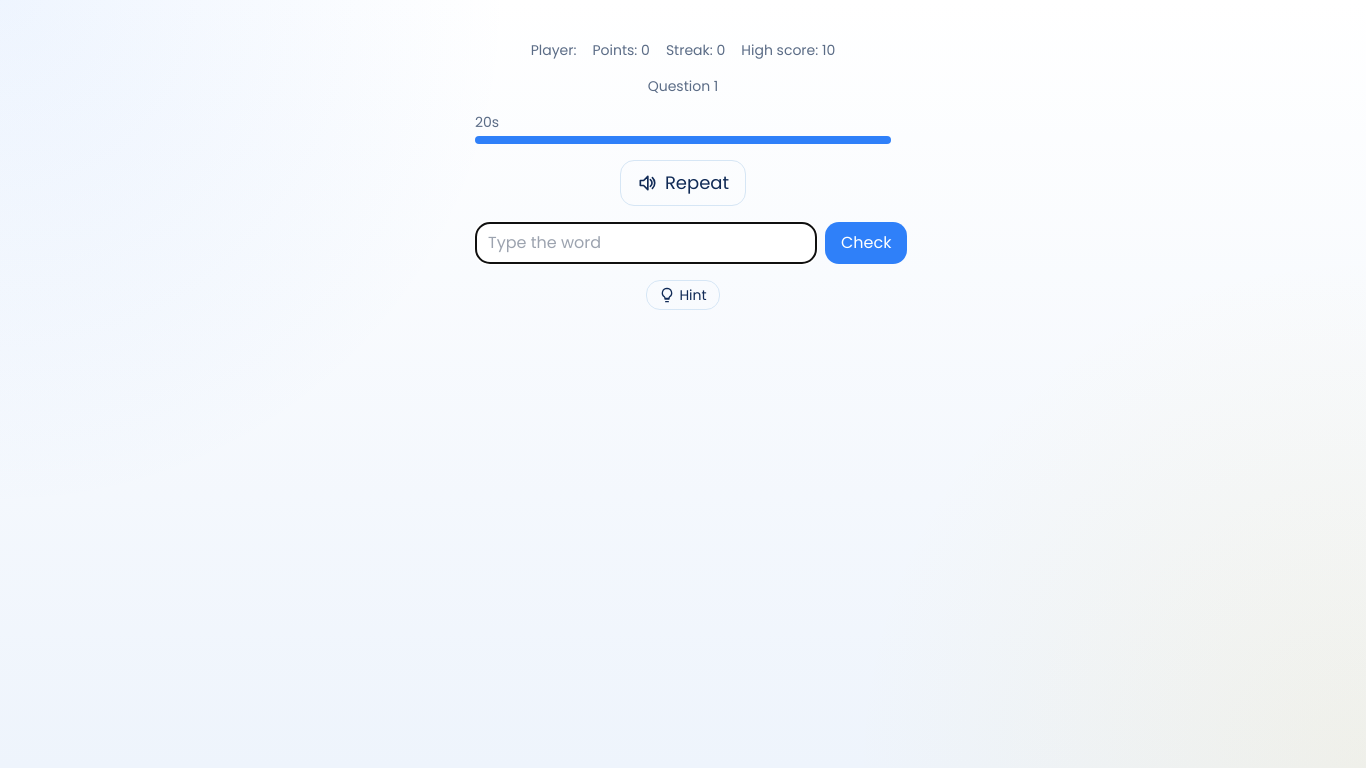
Test: ListenAndTypeGame (Spelling Bee) › a wrong answer shows the right word
The image size is (1366, 768).
In the field: [646, 243] box [475, 222, 817, 264], type "kat"
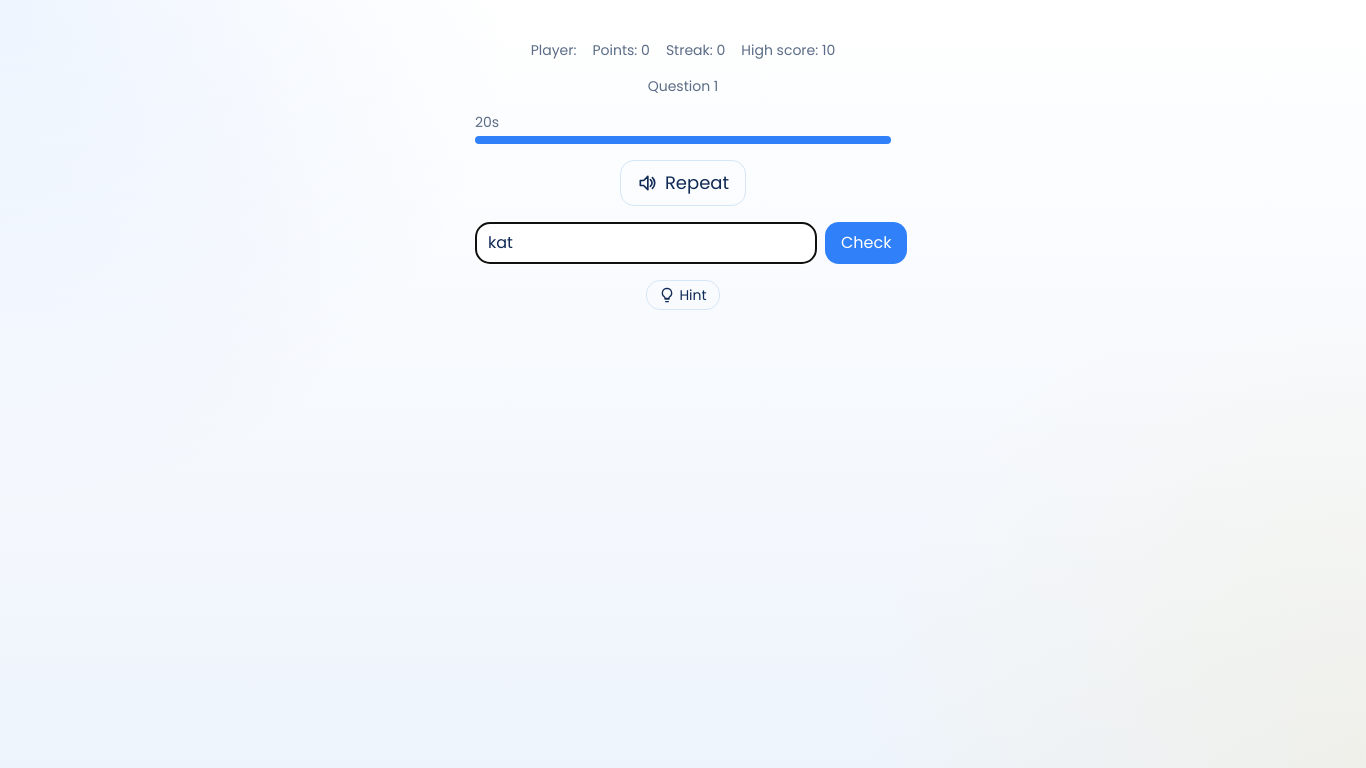
Click the button "Check": [866, 243] box [825, 222, 908, 264]
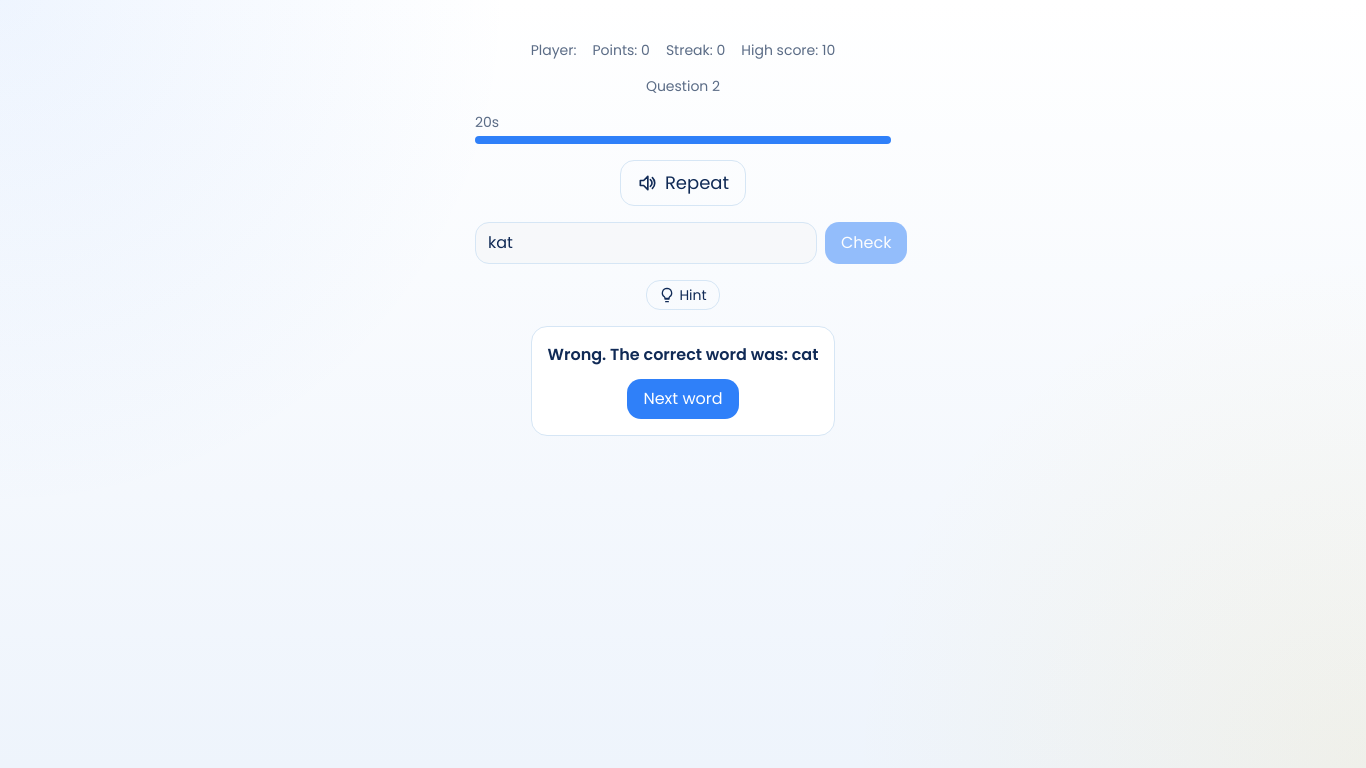
Result: the text "Wrong. The correct word was: cat" is shown at [548, 343, 818, 367]
